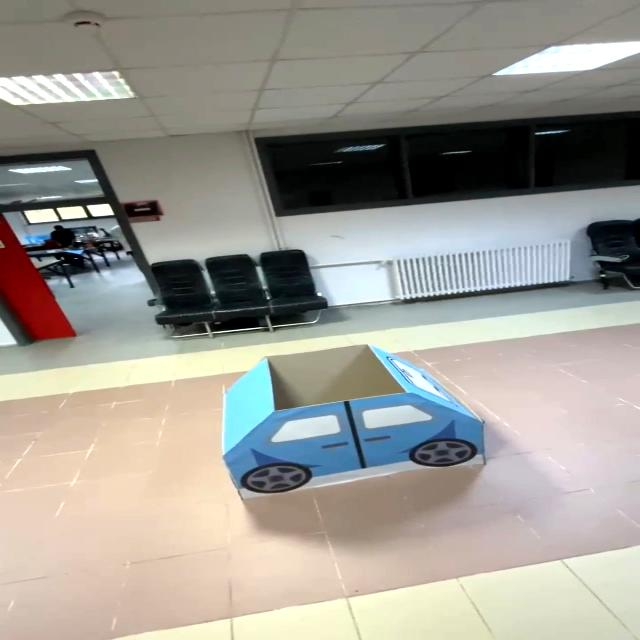blue_car: (164, 337, 516, 506)
